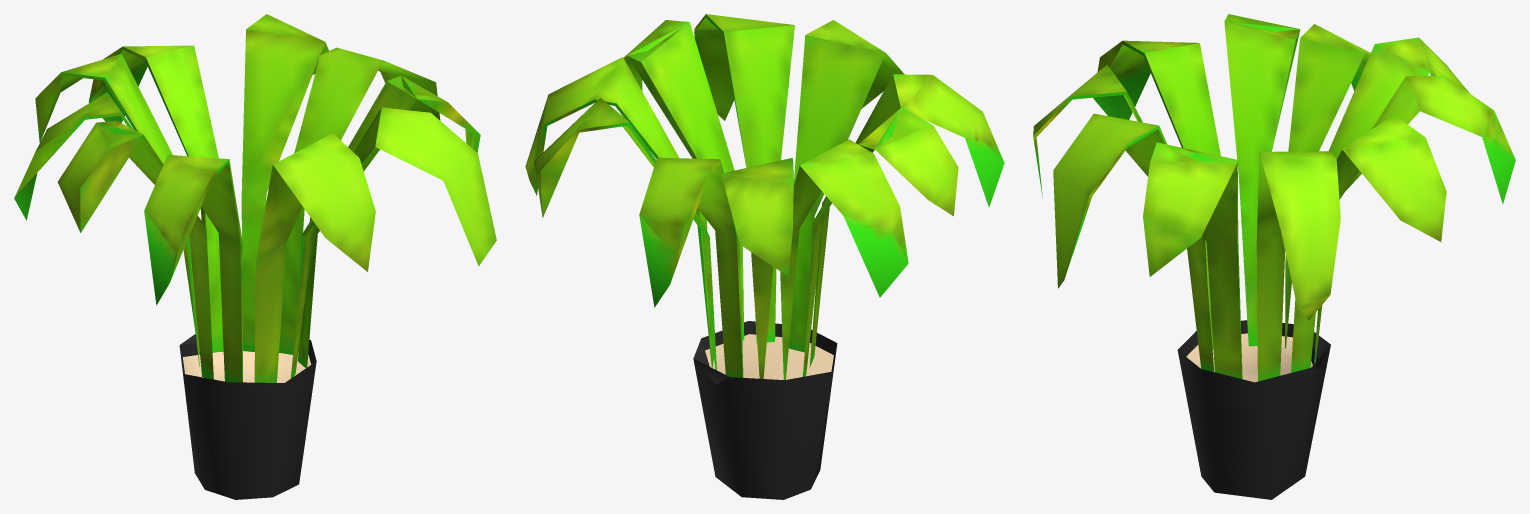
File: plant3.glb
The picture shows the model from 3 angles, left to right: view 1: azimuth 30°, elevation 25°; view 2: azimuth 150°, elevation 25°; view 3: azimuth 270°, elevation 25°; orthographic projection. The views are drawn at different scales.
Visible parts, largest first — view 1: Houseplant_6.002_primitive1; view 2: Houseplant_6.002_primitive1; view 3: Houseplant_6.002_primitive1.
Boxes of the visible parts, x1=… form: Houseplant_6.002_primitive1: x1=14, y1=14, x2=496, y2=499; Houseplant_6.002_primitive1: x1=525, y1=14, x2=1004, y2=499; Houseplant_6.002_primitive1: x1=1033, y1=14, x2=1515, y2=499.
Size of the model in its own units: 1.05 by 0.9609 by 1.05.
3 materials, 1 textured.
